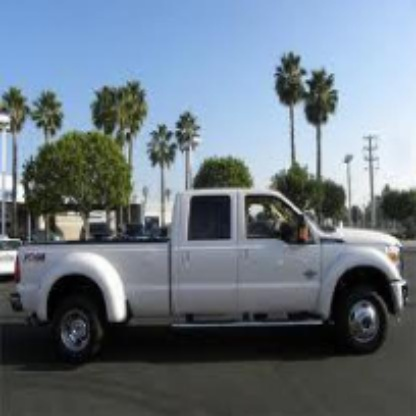Vehicle: (10, 187, 410, 371)
